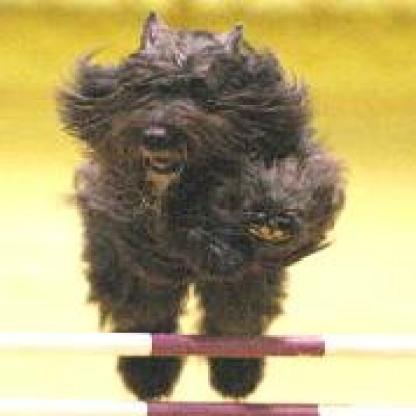Bouvier_des_Flandres: (35, 4, 358, 395)
